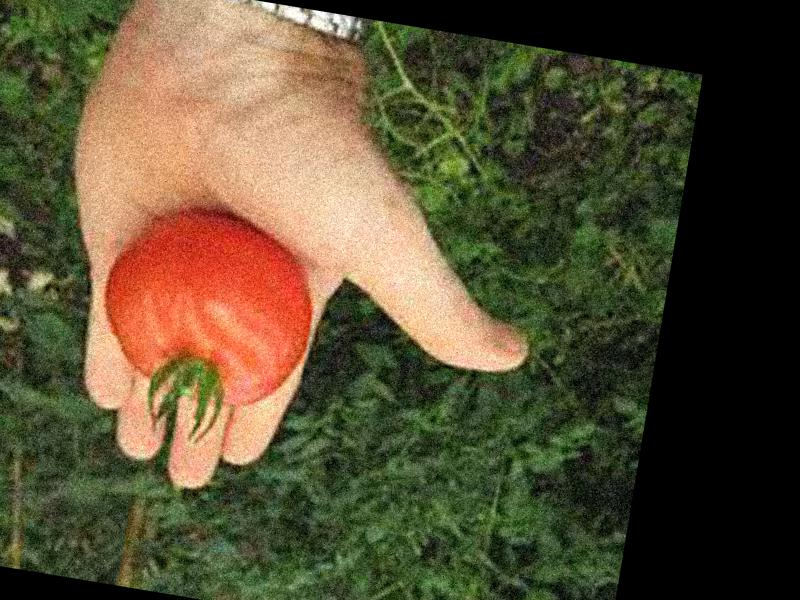Tomato: (87, 199, 328, 414)
